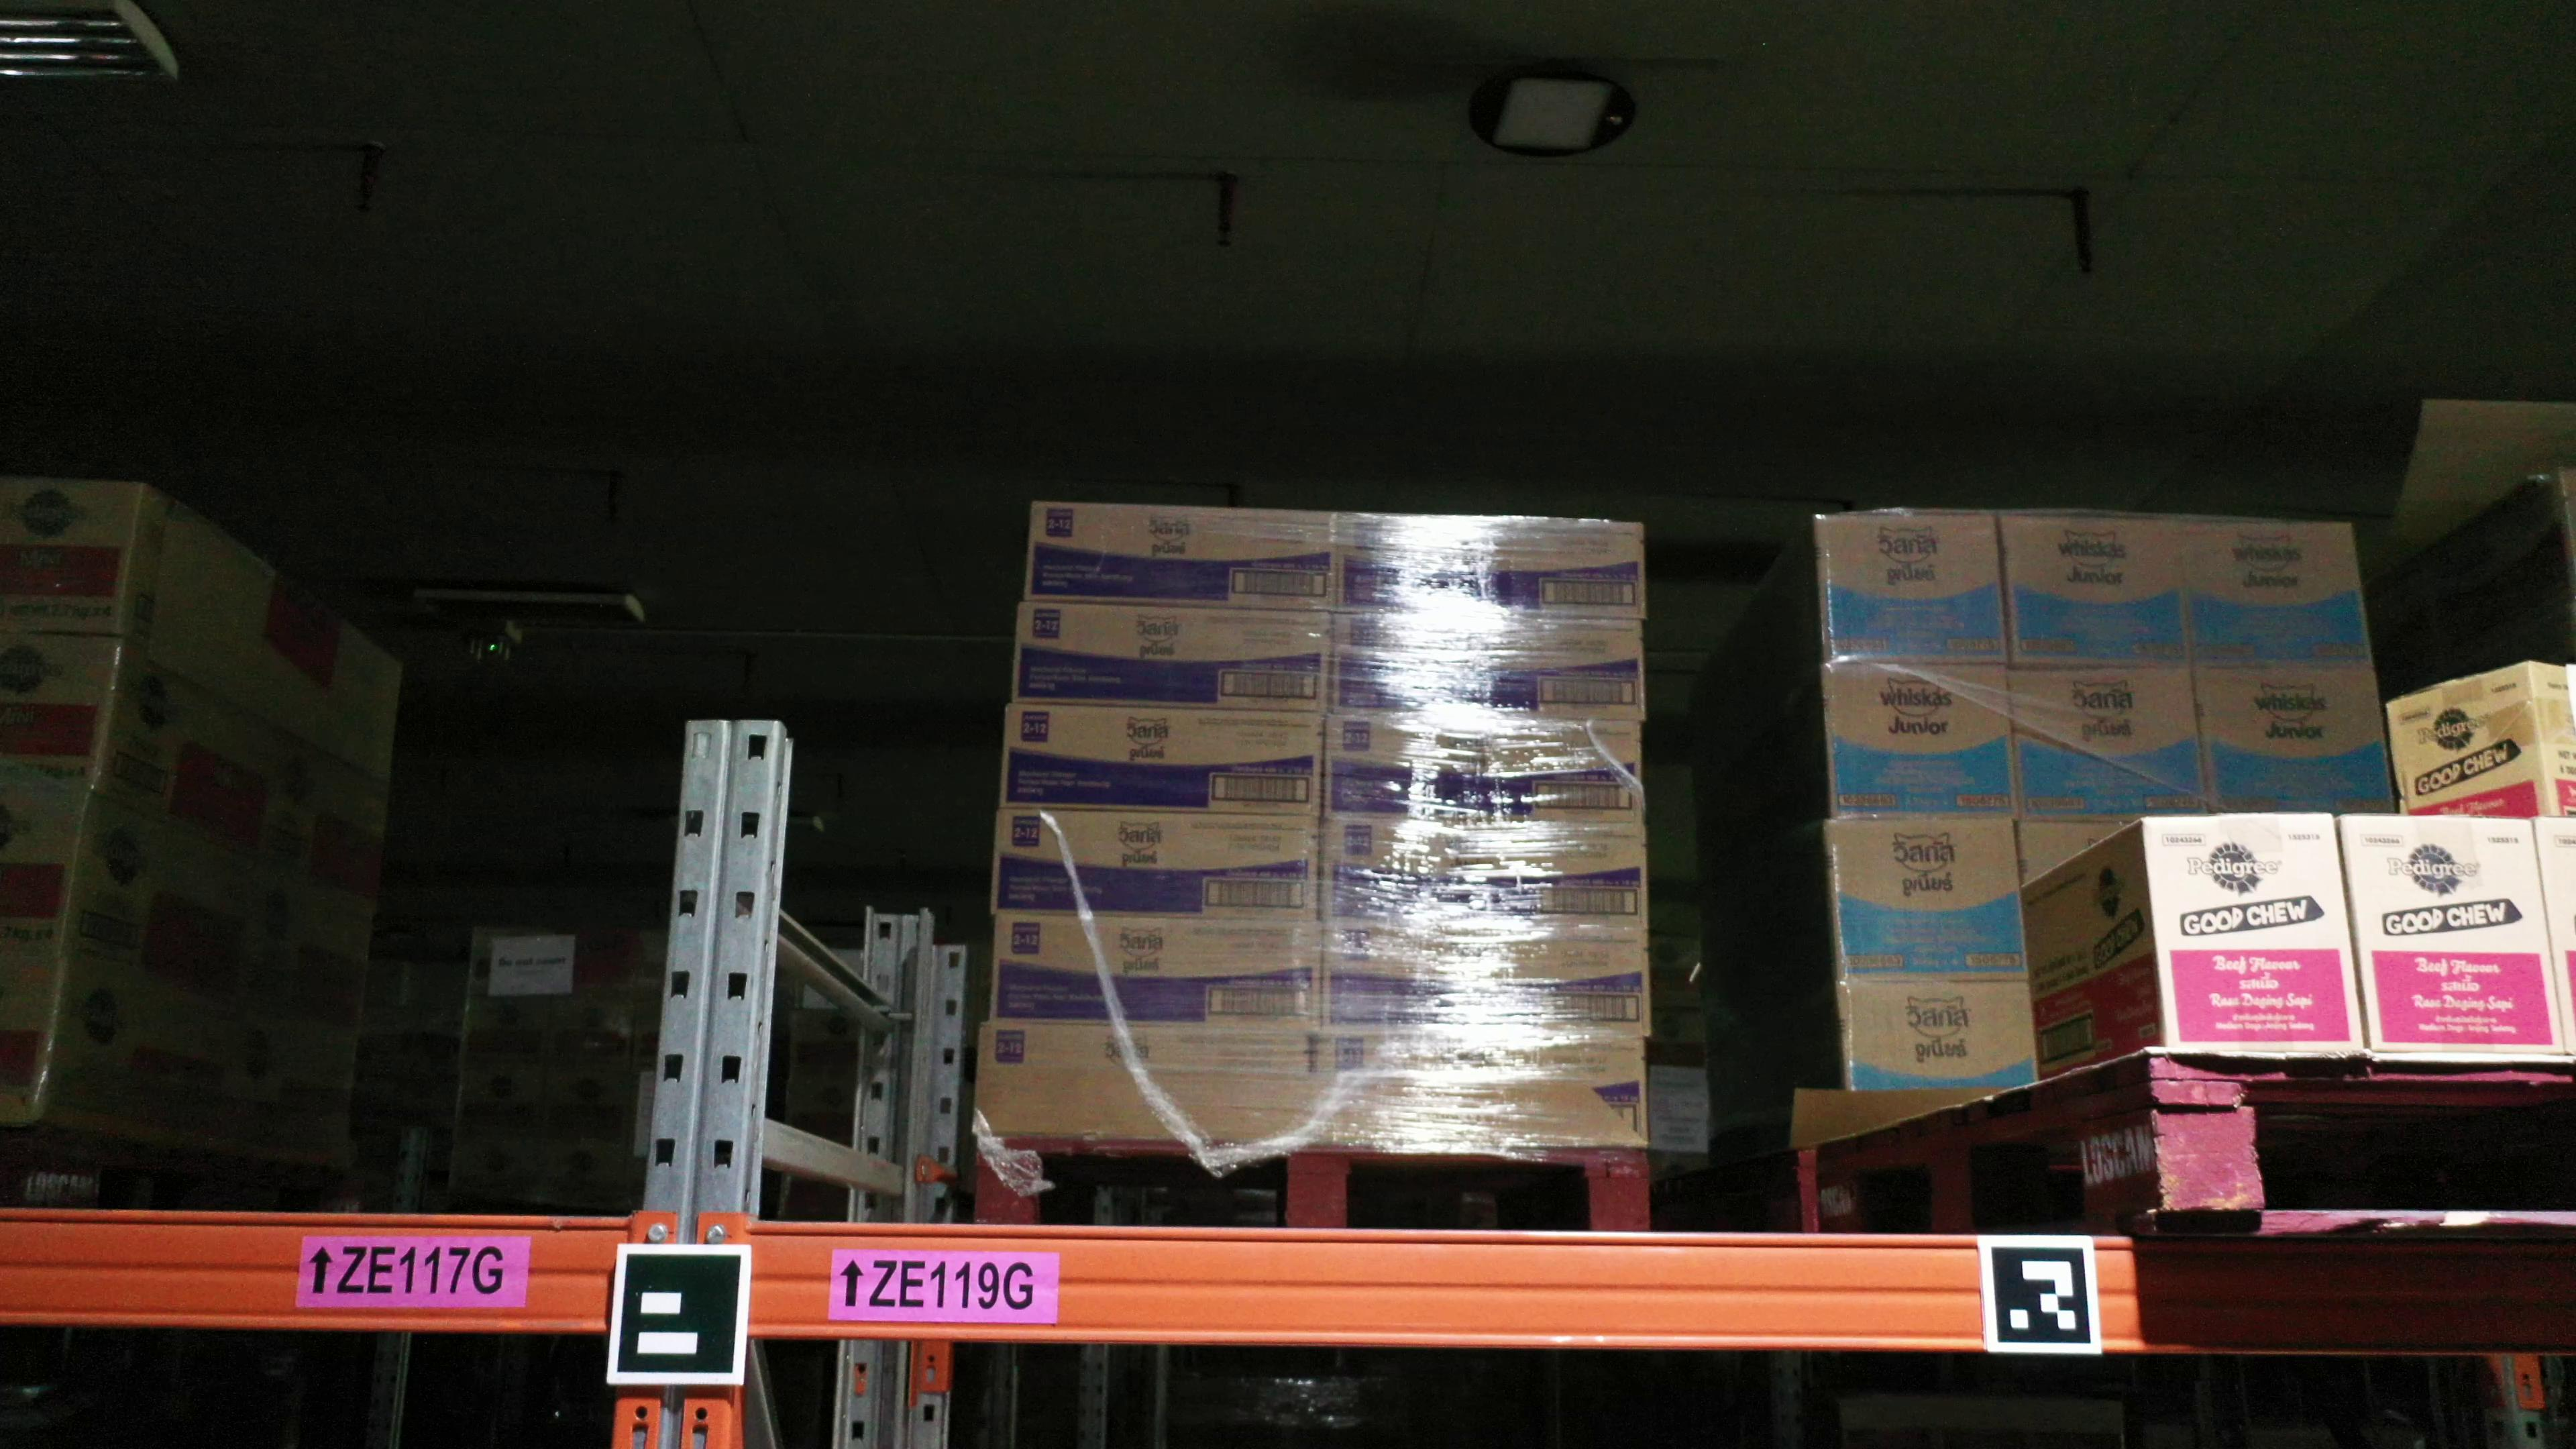-: (2337, 810, 2567, 1065), (2140, 816, 2368, 1060), (2390, 659, 2554, 816)
box: (993, 807, 1322, 930), (988, 919, 1326, 1035), (1011, 595, 1333, 716), (1317, 816, 1644, 934), (1322, 709, 1644, 827), (1000, 700, 1324, 816), (1315, 1035, 1650, 1145), (1026, 494, 1333, 610), (1328, 610, 1644, 720), (1320, 930, 1648, 1035), (1328, 510, 1644, 617), (1825, 818, 2031, 981), (2173, 517, 2375, 671), (2192, 662, 2397, 812), (2010, 664, 2212, 816), (1820, 659, 2010, 818), (1999, 515, 2187, 669), (1816, 515, 2006, 664), (0, 478, 141, 637), (1843, 984, 2041, 1089), (0, 635, 121, 794), (973, 1024, 1308, 1078), (0, 792, 89, 964), (0, 959, 60, 1102)
